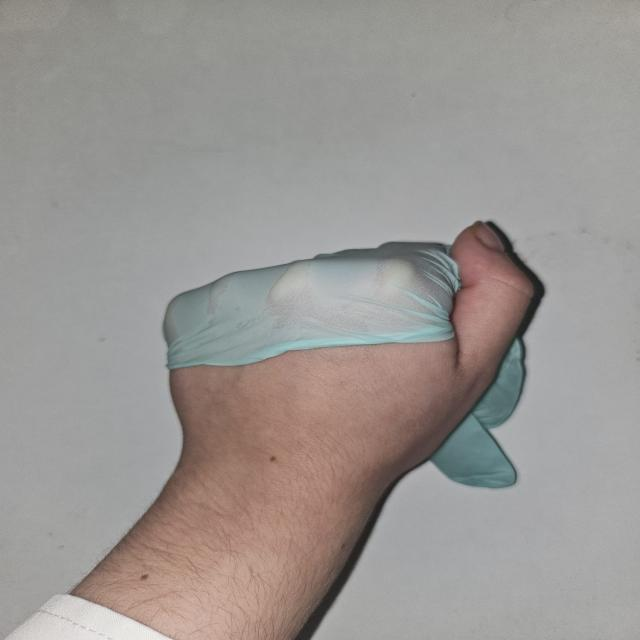glove_partial: (161, 219, 547, 486)
